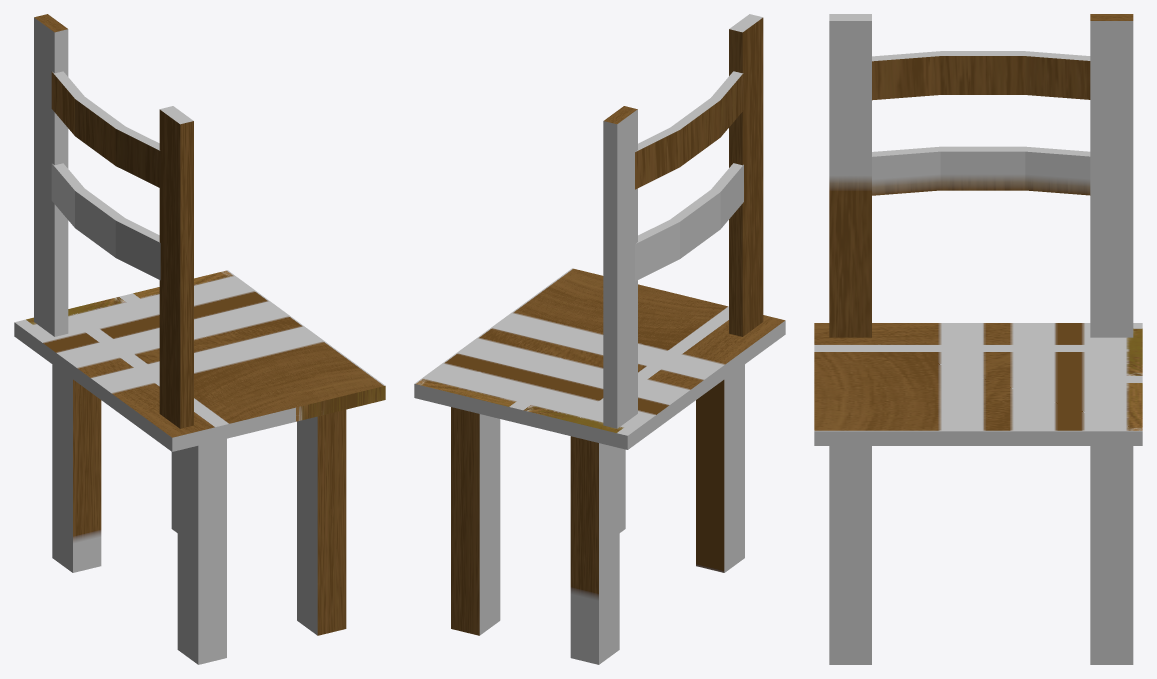
Rendered from silla2.fbx.
3 renders of one model, left to right at view 1: azimuth 30°, elevation 25°; view 2: azimuth 150°, elevation 25°; view 3: azimuth 270°, elevation 25°, orthographic. The views are drawn at different scales.
Visible parts, largest first — view 1: silla_ESCALADA; view 2: silla_ESCALADA; view 3: silla_ESCALADA.
Part boxes in pixels (x1,y1,x2,y2): silla_ESCALADA: [14, 14, 385, 664]; silla_ESCALADA: [414, 14, 785, 664]; silla_ESCALADA: [814, 14, 1142, 664].
Bounding box in the file's own units: 112 × 273 × 143.
